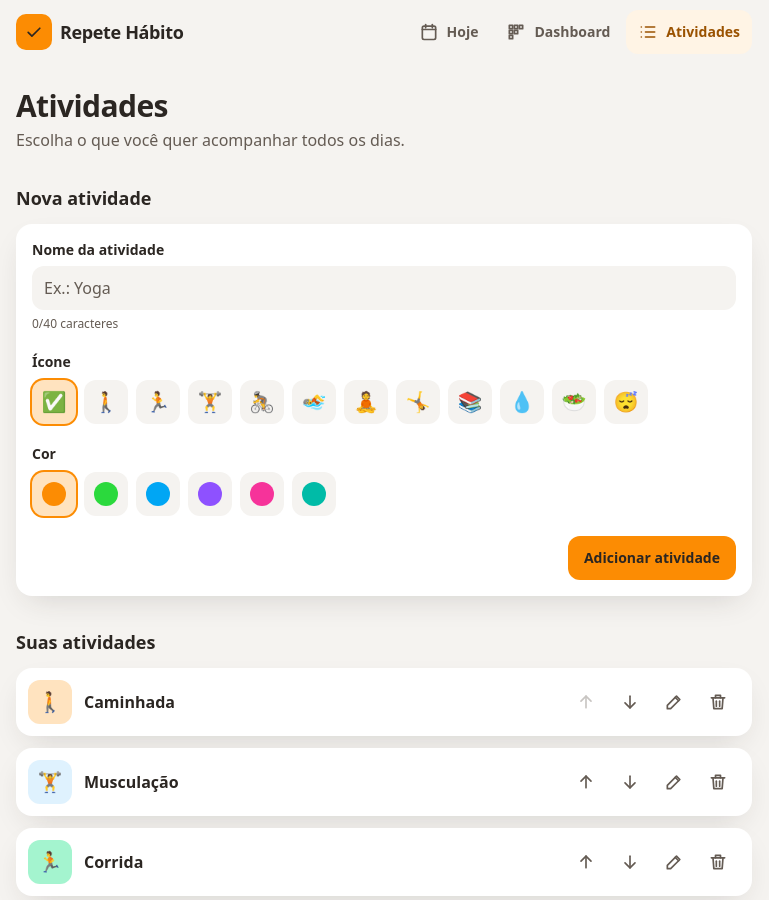
Test: ActivitiesView — gerenciamento › TI-03: cria uma atividade que passa a aparecer na tela de registro
Step 1. Type "Yoga" into the field labelled "Nome da atividade" → {"x": 384, "y": 288}, box [32,266,736,310]
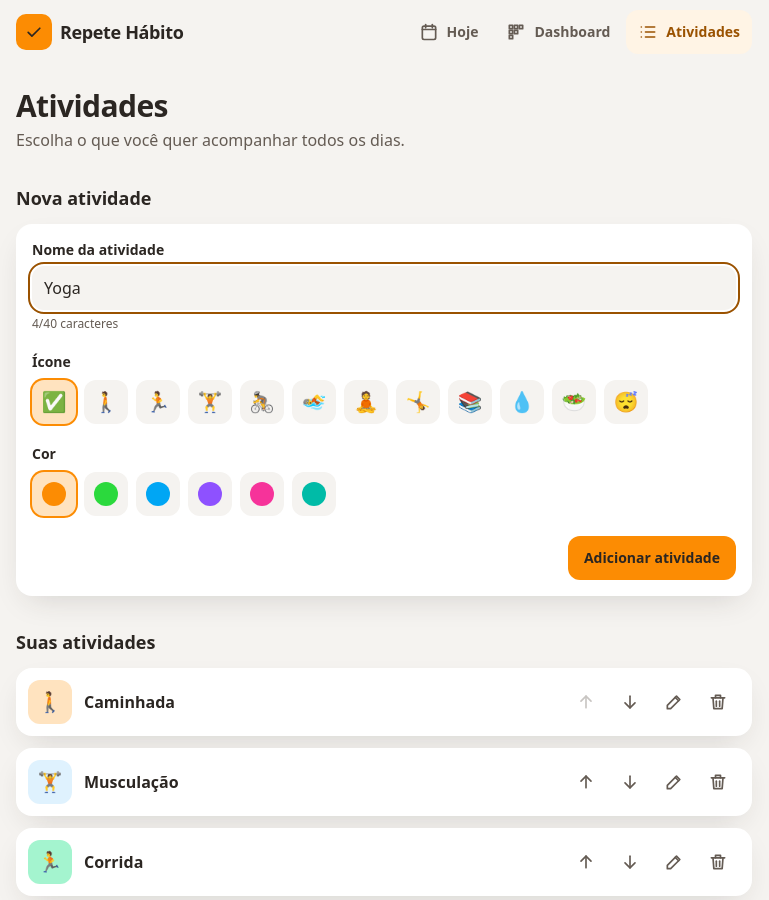
Step 2. Click the radio button named "Ícone Meditação" → {"x": 366, "y": 402}, box [344,380,388,424]
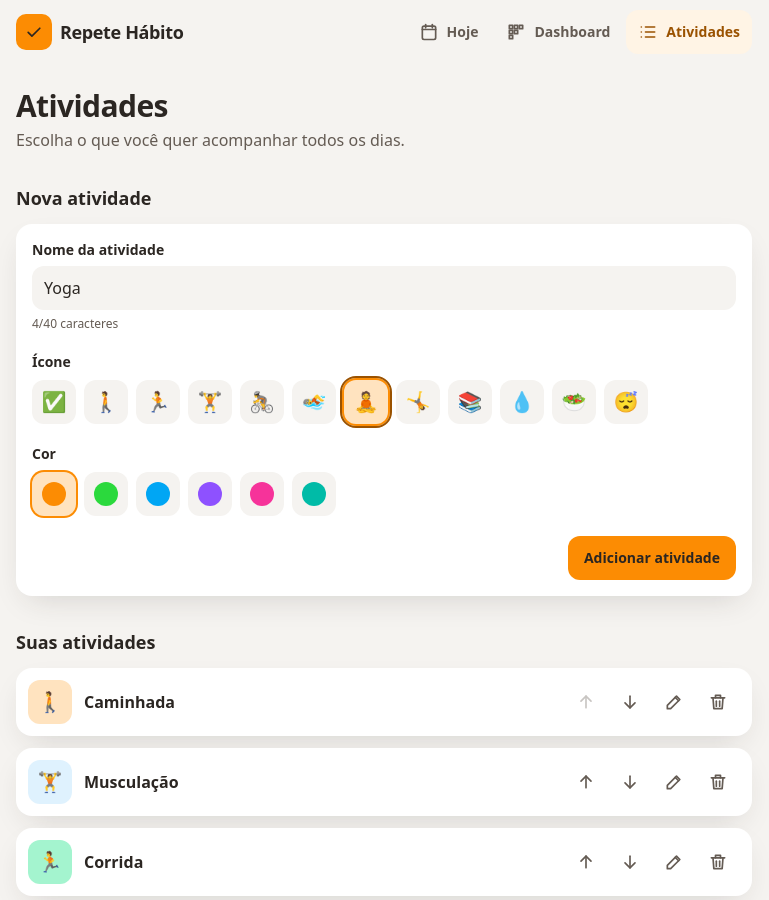
Step 3. Click the button "Adicionar atividade" → {"x": 652, "y": 558}, box [568,536,736,580]
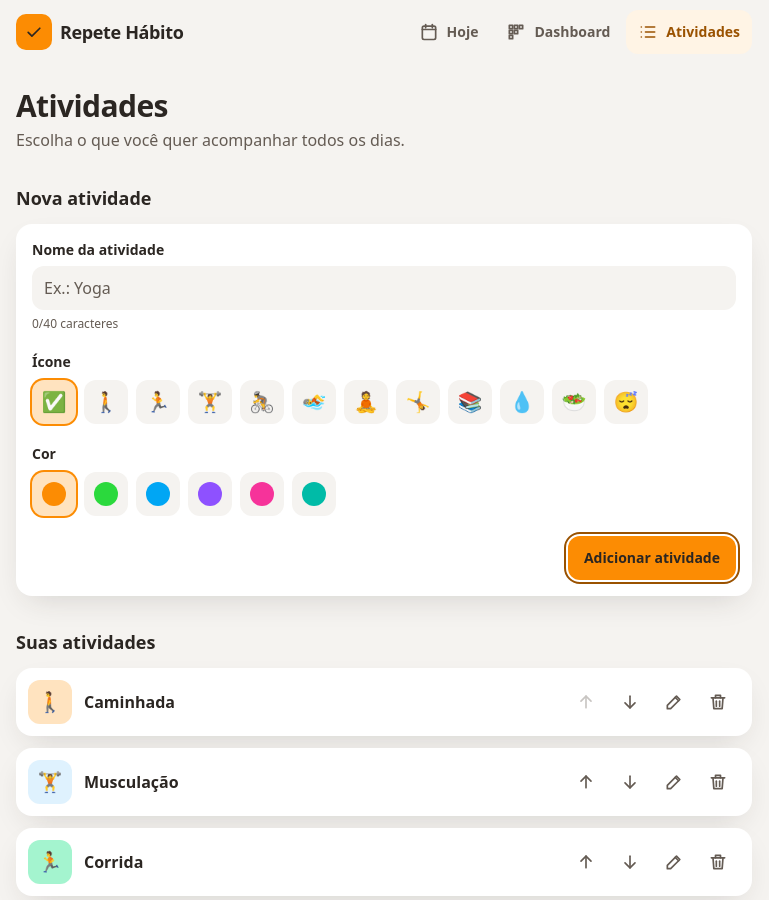
Expected: the field labelled "Nome da atividade" is empty, [32,266,736,310]
Step 4. Click the link "Hoje" → {"x": 448, "y": 32}, box [418,22,478,42]
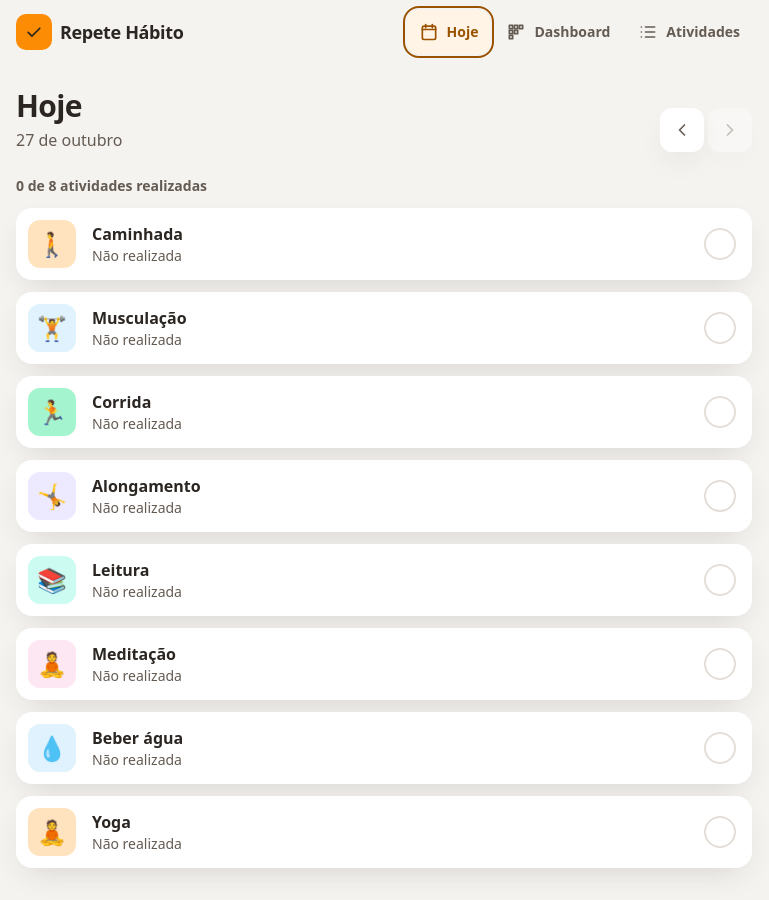
Expected: the button named "Yoga não realizada em 27 de outubro" is shown, [16,796,752,868]
